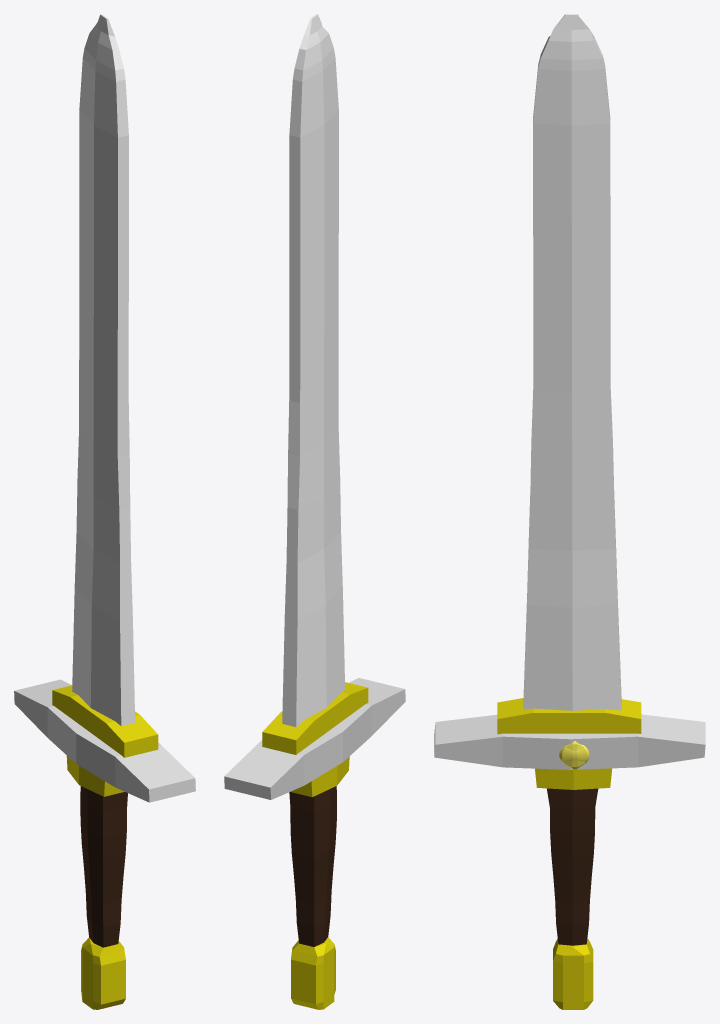
Rendered from Sword.fbx.
The picture shows the model from 3 angles, left to right: view 1: azimuth 30°, elevation 25°; view 2: azimuth 150°, elevation 25°; view 3: azimuth 270°, elevation 25°; orthographic projection.
Visible parts, largest first — view 1: Cube.003, Cube.004, Cube.002, Cube.005, Cube.006, Cube.001; view 2: Cube.003, Cube.004, Cube.002, Cube.005, Cube.006, Cube.001; view 3: Cube.003, Cube.004, Cube.002, Cube.005, Cube.006, Cube.001, Sphere.
Boxes of the visible parts, x1,y1,x2,y2 form: Cube.003: [72, 14, 135, 726]; Cube.004: [14, 679, 195, 802]; Cube.002: [80, 786, 127, 947]; Cube.005: [52, 685, 158, 757]; Cube.006: [81, 937, 125, 1009]; Cube.001: [66, 755, 124, 796]; Cube.003: [282, 14, 345, 726]; Cube.004: [224, 678, 405, 799]; Cube.002: [289, 786, 336, 946]; Cube.005: [262, 682, 368, 754]; Cube.006: [291, 937, 335, 1009]; Cube.001: [290, 756, 349, 797]; Cube.003: [523, 14, 621, 710]; Cube.004: [434, 714, 705, 769]; Cube.002: [546, 788, 598, 945]; Cube.005: [497, 698, 641, 734]; Cube.006: [553, 938, 593, 1009]; Cube.001: [535, 768, 612, 789]; Sphere: [559, 741, 589, 769].
Bounding box in the file's own units: 30.65 × 478 × 119.
